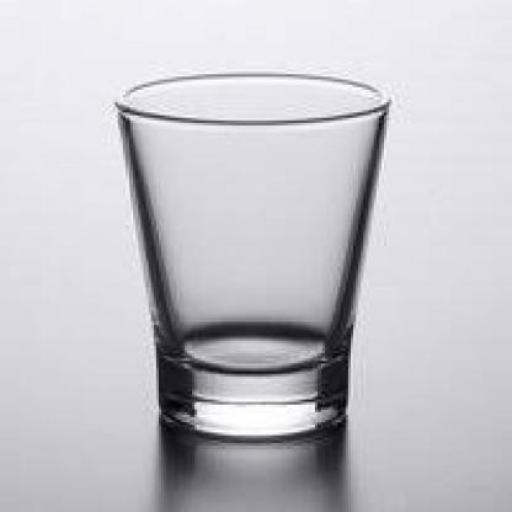glass: (113, 69, 387, 436)
